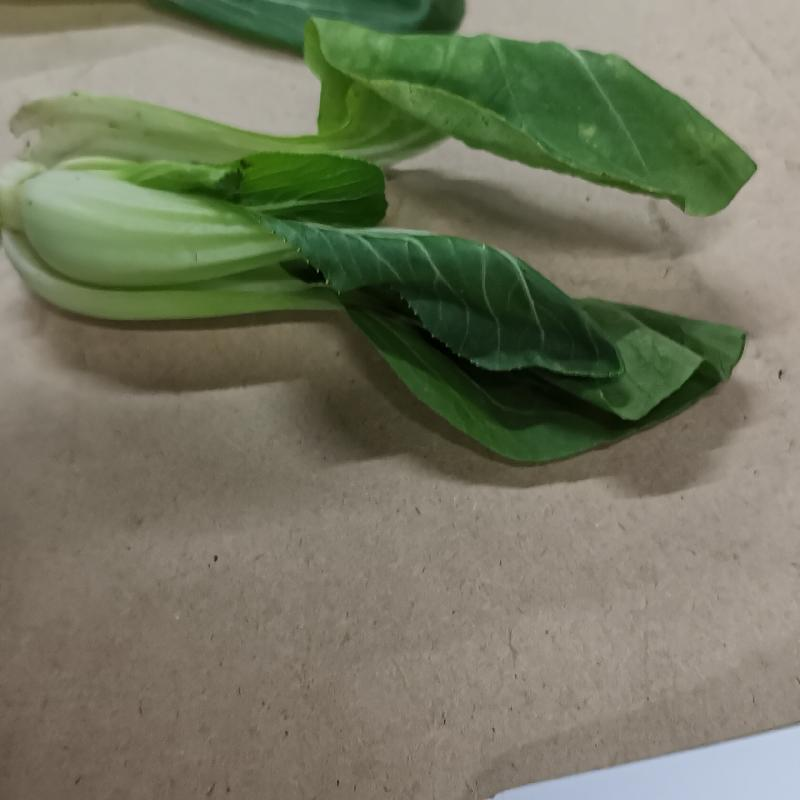green vegatable: (0, 11, 754, 470)
